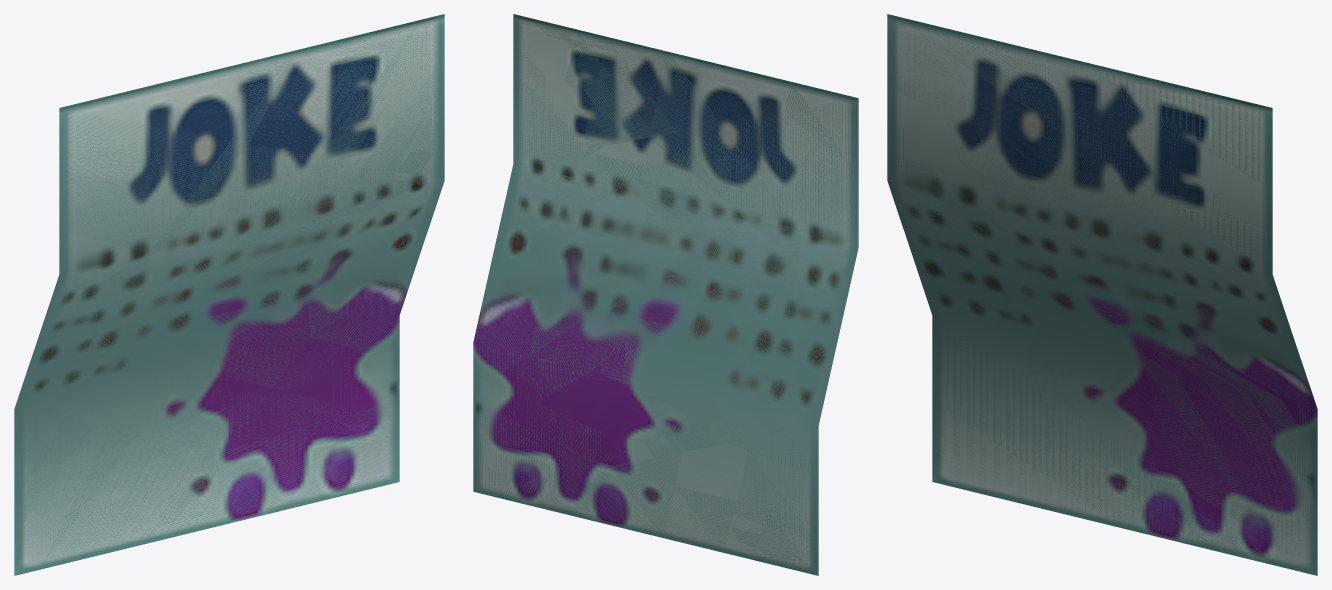
Rendered from memo.fbx.
3 views of the same model, side by side, from view 1: azimuth 30°, elevation 25°; view 2: azimuth 150°, elevation 25°; view 3: azimuth 330°, elevation 25° (orthographic). The views are drawn at different scales.
Parts seen in each view (by area): view 1: memo; view 2: memo; view 3: memo.
Part boxes in pixels (x1,y1,x2,y2): memo: (14, 14, 444, 575); memo: (473, 14, 858, 575); memo: (887, 14, 1317, 575).
Bounding box in the file's own units: 43.66 × 54.2 × 8.79.
1 material, 1 textured.
